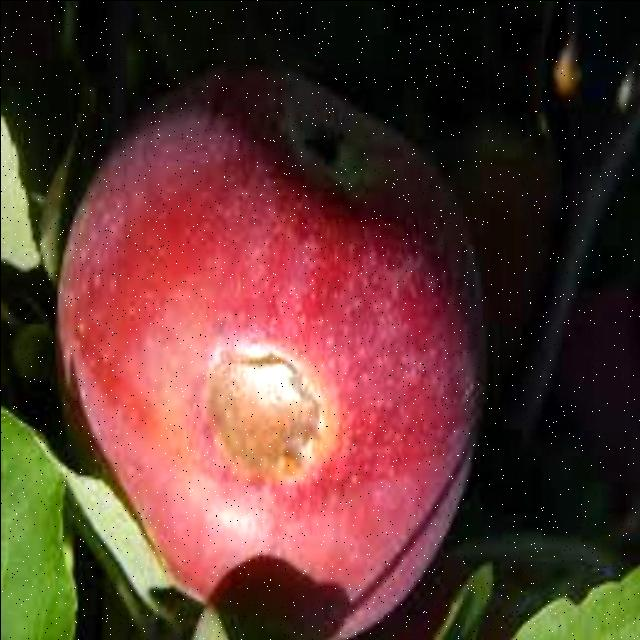ROT: (85, 149, 488, 621)
